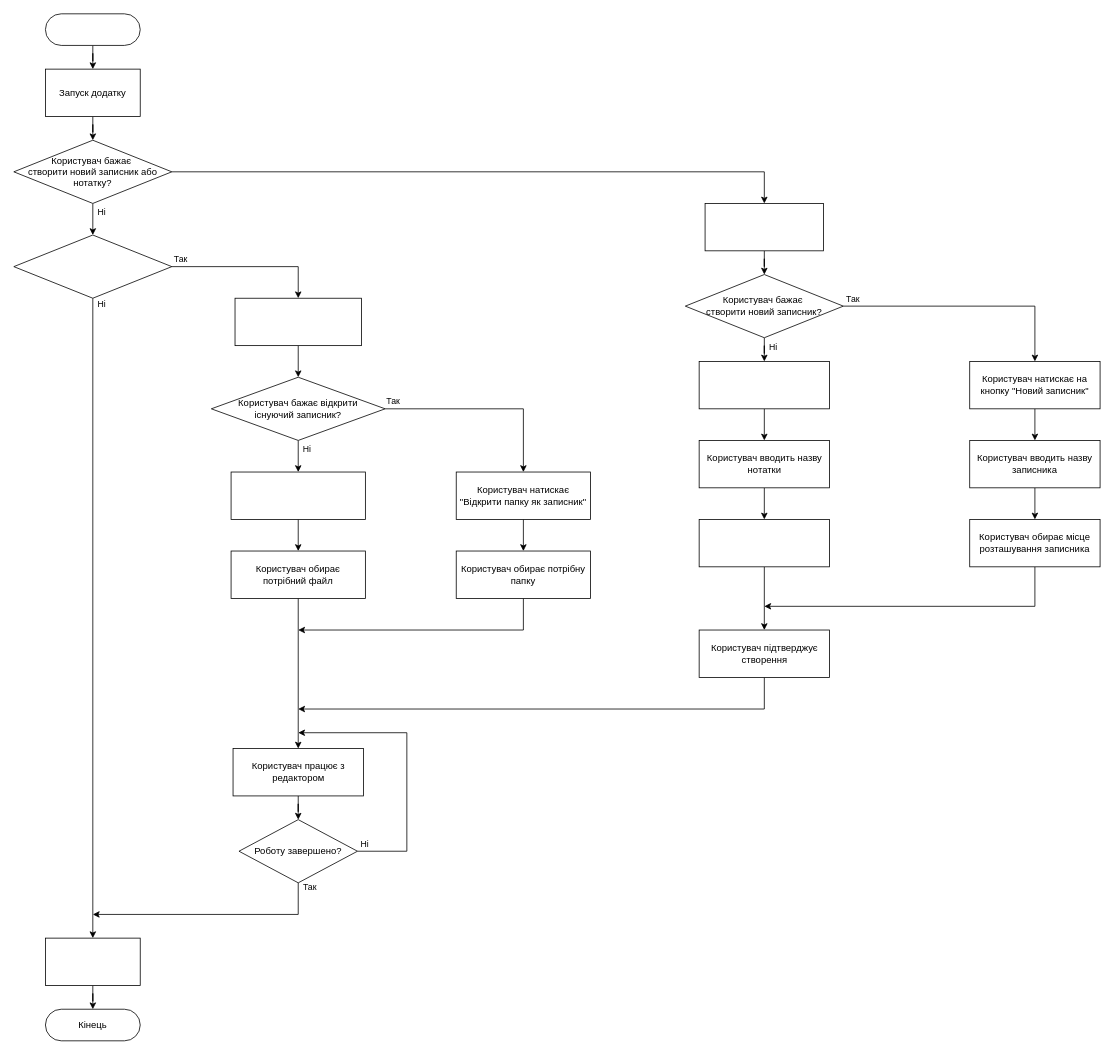
The diagram is 1114 pixels wide and 1055 high, and some of its shapes have lost their labels. Each missing label, with the box of its shape:
Завершення роботи додатку: (45, 937, 140, 986)
Користувач бажає відкрити існуючий записник або нотатку?: (13, 234, 172, 298)
Користувач натискає "Відкрити файл як нотатку": (230, 471, 365, 519)
Користувач натискає на кнопку "Відкрити": (234, 297, 361, 346)
Користувач натискає на кнопку "Нова нотатка": (698, 361, 830, 409)
Користувач натискає на кнопку "Створити": (704, 203, 824, 251)
Користувач обирає місце розташування нотатки: (698, 519, 830, 567)
Початок: (45, 13, 140, 45)
